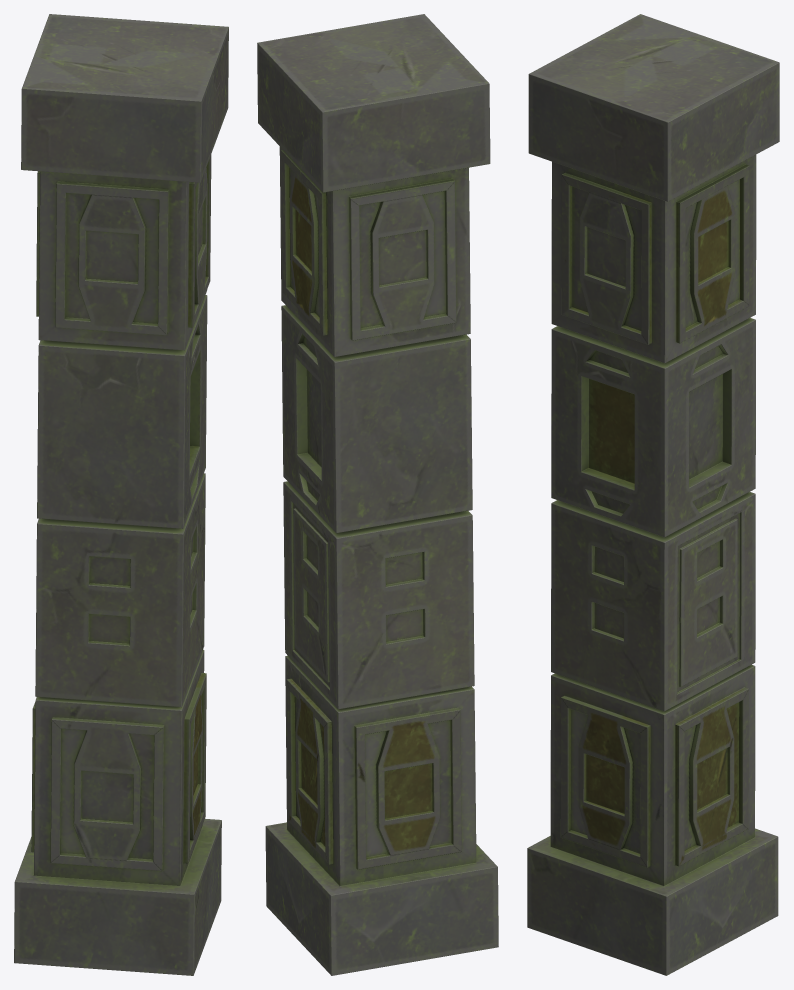
File: totem1Crash.obj
3 views of the same model, side by side, from view 1: azimuth 30°, elevation 25°; view 2: azimuth 150°, elevation 25°; view 3: azimuth 270°, elevation 25° (orthographic).
Visible parts, largest first — view 1: totem_paint_Material.001; view 2: totem_paint_Material.001; view 3: totem_paint_Material.001.
Boxes of the visible parts, x1,y1,x2,y2 form: totem_paint_Material.001: (14,14,228,975); totem_paint_Material.001: (257,14,498,975); totem_paint_Material.001: (527,14,779,975).
Size of the model in its own units: 1.2 by 4.38 by 1.17.
